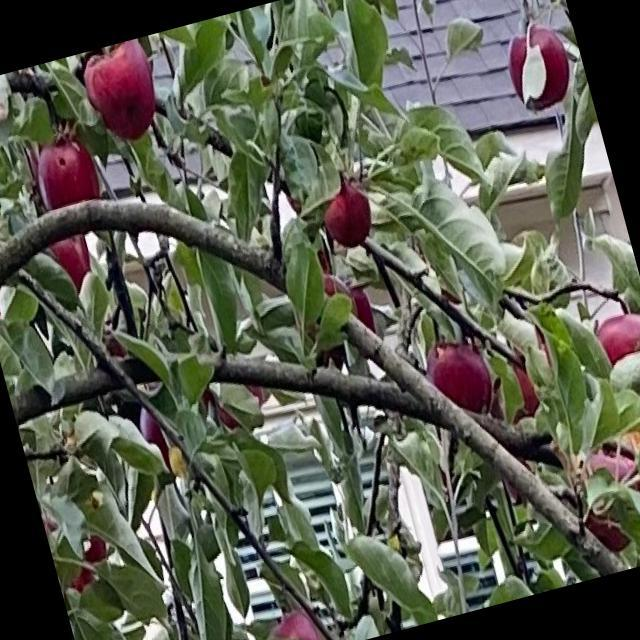100-_ripeness: (78, 36, 165, 144), (421, 331, 499, 428), (572, 451, 639, 551), (42, 504, 114, 595), (502, 25, 574, 113), (31, 132, 103, 218), (317, 175, 376, 250), (206, 367, 268, 428), (45, 231, 96, 294), (591, 304, 639, 366), (497, 353, 542, 419), (134, 402, 174, 468), (346, 278, 376, 336), (267, 608, 321, 639)
